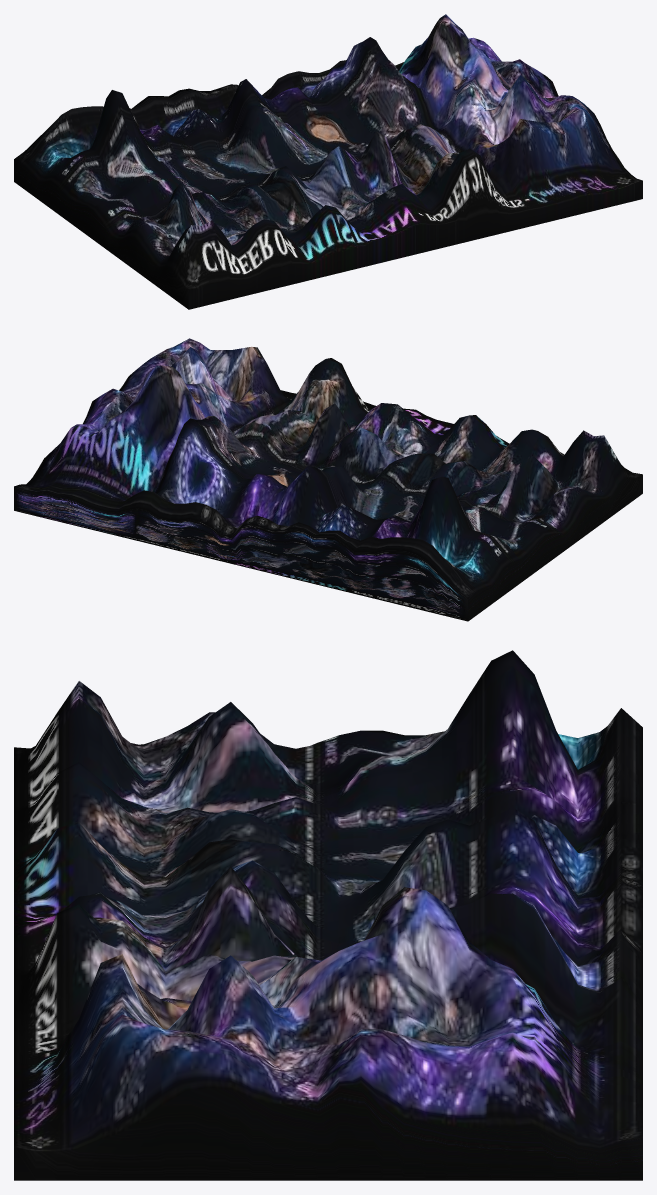
File: CAREER_04_Poster_21.glb
3 renders of one model, top to bottom at view 1: azimuth 30°, elevation 25°; view 2: azimuth 150°, elevation 25°; view 3: azimuth 270°, elevation 25°, orthographic. The views are drawn at different scales.
Visible parts, largest first — view 1: CAREER_04_Poster_21; view 2: CAREER_04_Poster_21; view 3: CAREER_04_Poster_21.
Part boxes in pixels (box(x1,y1,x2,y2)): CAREER_04_Poster_21: box(14, 14, 642, 309); CAREER_04_Poster_21: box(14, 338, 642, 621); CAREER_04_Poster_21: box(14, 650, 642, 1180).
Size of the model in its own units: 2 by 0.51 by 1.33.
1 material, 1 textured.
